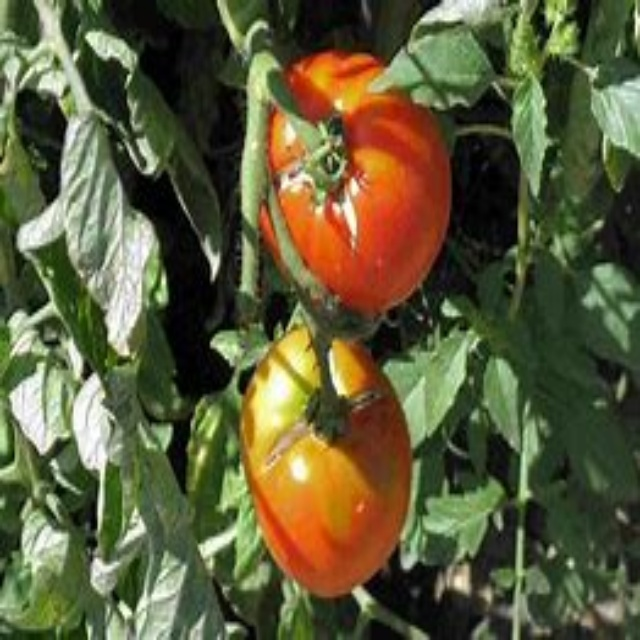tomato: (258, 55, 449, 311), (235, 337, 403, 585)
